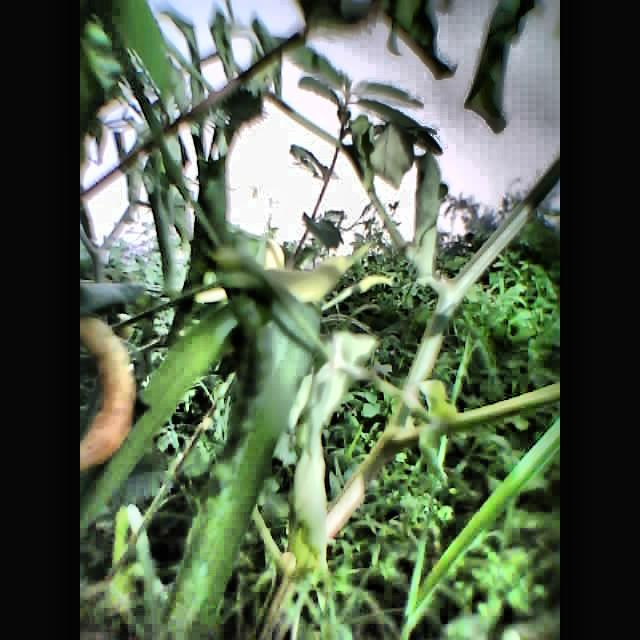Cabai: (80, 304, 153, 477)
